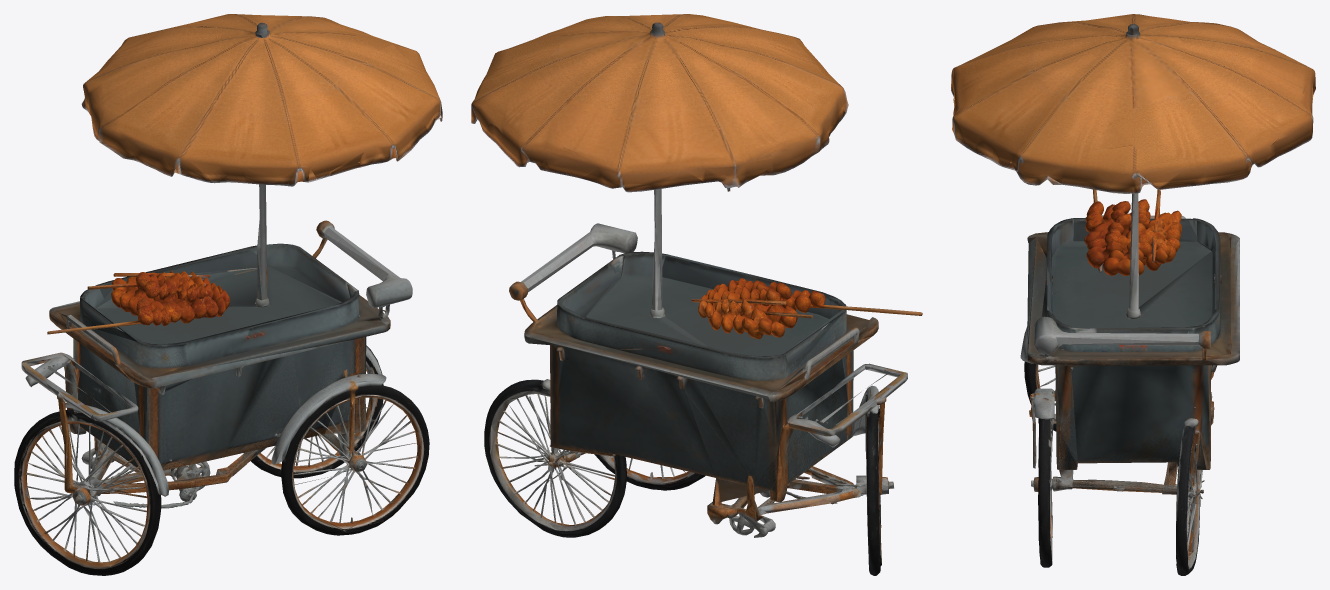
Rendered from carrinho-churrasquinho__01a163ba.glb.
3 renders of one model, left to right at view 1: azimuth 30°, elevation 25°; view 2: azimuth 150°, elevation 25°; view 3: azimuth 270°, elevation 25°, orthographic. The views are drawn at different scales.
Visible parts, largest first — view 1: carrinho-churrasquinho__01a163ba; view 2: carrinho-churrasquinho__01a163ba; view 3: carrinho-churrasquinho__01a163ba.
Part boxes in pixels (left/top/right/bottom): carrinho-churrasquinho__01a163ba: left=14, top=14, right=442, bottom=575; carrinho-churrasquinho__01a163ba: left=471, top=14, right=922, bottom=575; carrinho-churrasquinho__01a163ba: left=951, top=14, right=1315, bottom=575.
Size of the model in its own units: 1.84 by 2.2 by 1.43.
Materials: 1 (1 with a texture image).
